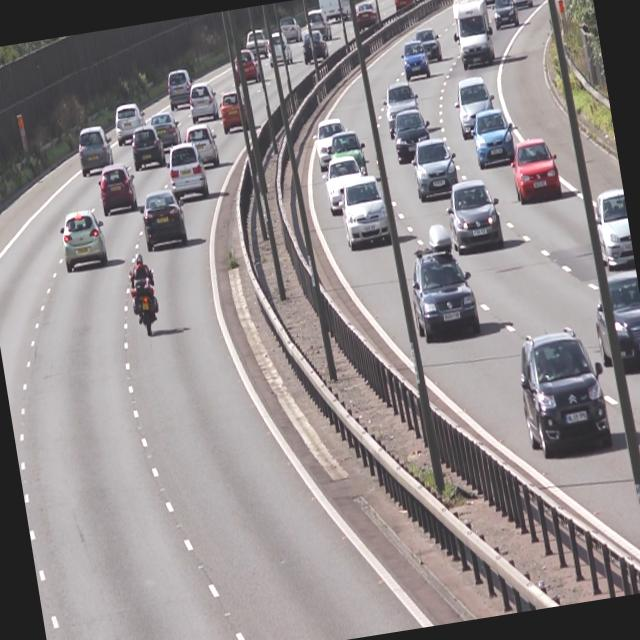Vehicle: (514, 323, 614, 462), (404, 220, 482, 344), (590, 271, 640, 374), (444, 175, 507, 256), (338, 175, 397, 255), (508, 130, 566, 211), (54, 204, 112, 273), (590, 184, 635, 271), (411, 134, 463, 205), (468, 105, 522, 173), (452, 72, 501, 142), (450, 0, 498, 71), (140, 190, 191, 256), (319, 154, 370, 215), (96, 158, 142, 220), (390, 108, 435, 167), (167, 140, 210, 201), (76, 124, 120, 178), (126, 122, 168, 174), (382, 80, 424, 132), (184, 119, 224, 172), (184, 80, 224, 130), (218, 86, 254, 136), (114, 100, 150, 145), (164, 66, 195, 116), (150, 106, 184, 150), (400, 38, 431, 82), (414, 24, 446, 66), (488, 0, 520, 34)
